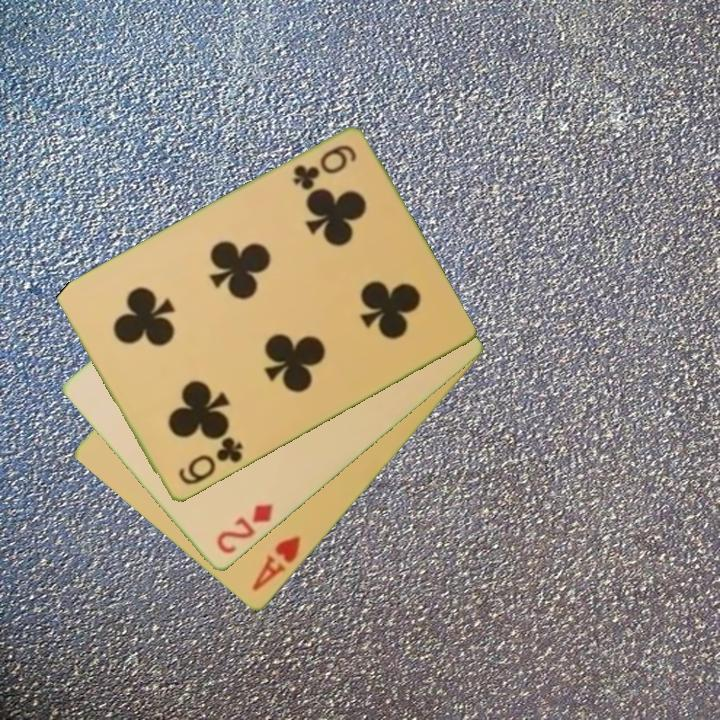2d: (212, 500, 277, 558)
6c: (174, 434, 246, 489), (289, 141, 360, 194)
Ah: (248, 532, 304, 595)
